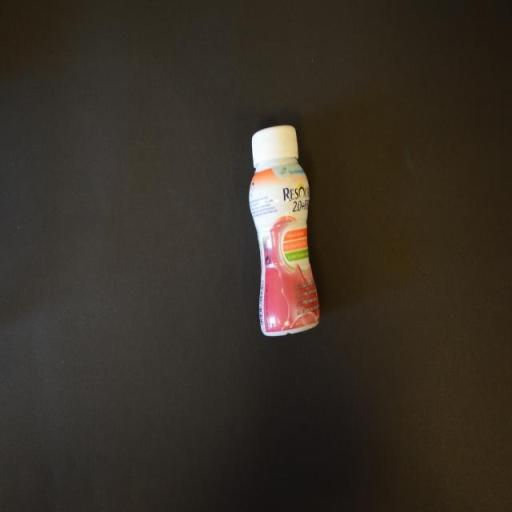plastic: (247, 124, 322, 338)
